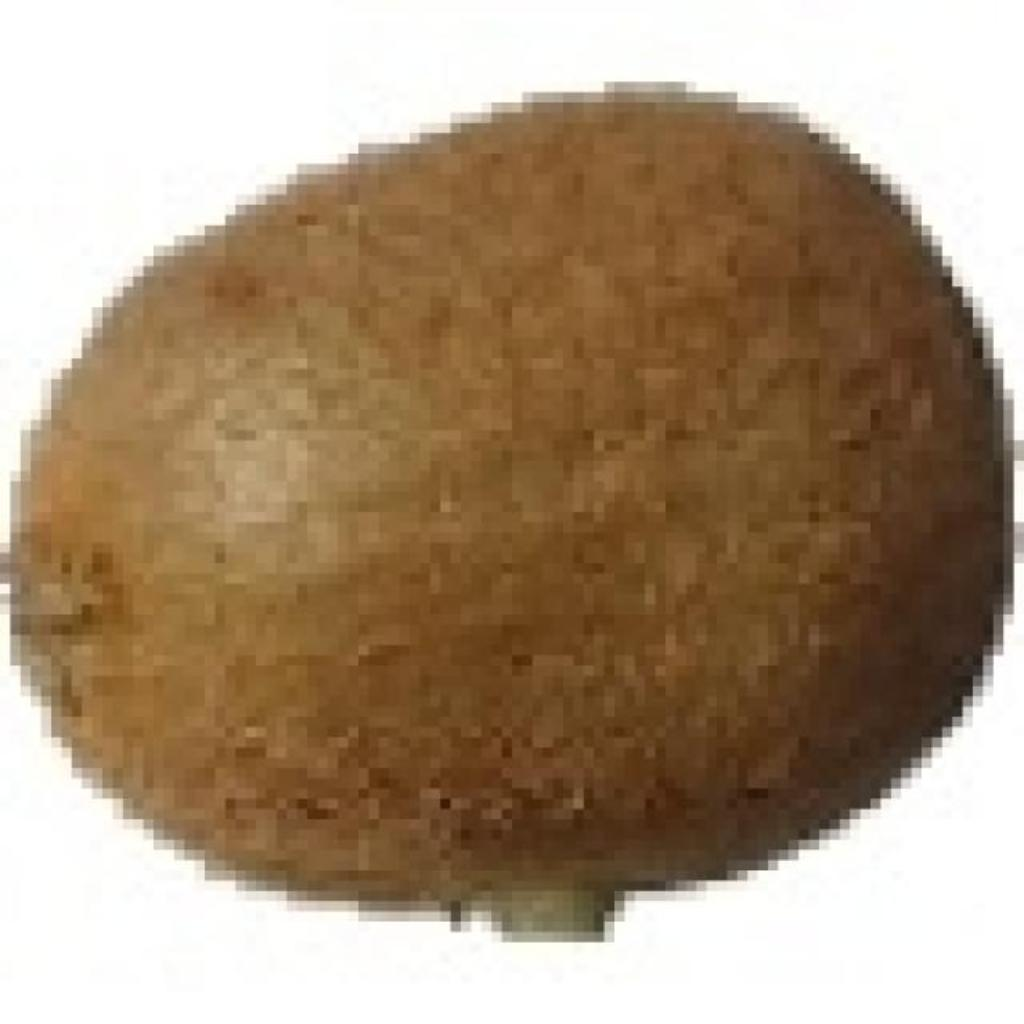kiwi: (10, 82, 993, 911)
